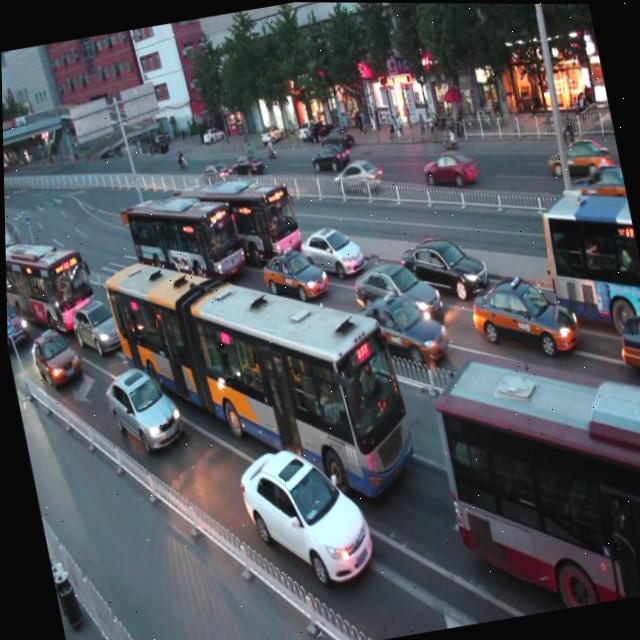car: (231, 431, 375, 598), (464, 261, 583, 371), (346, 286, 448, 374), (346, 246, 442, 337), (99, 358, 184, 460), (397, 222, 490, 306), (254, 236, 328, 308), (293, 212, 364, 285), (66, 293, 129, 360), (27, 322, 84, 393), (609, 299, 640, 386), (5, 295, 32, 354)
van: (97, 214, 421, 535), (422, 327, 640, 624), (531, 178, 640, 334), (120, 176, 248, 301), (175, 159, 304, 277), (4, 225, 96, 335)
